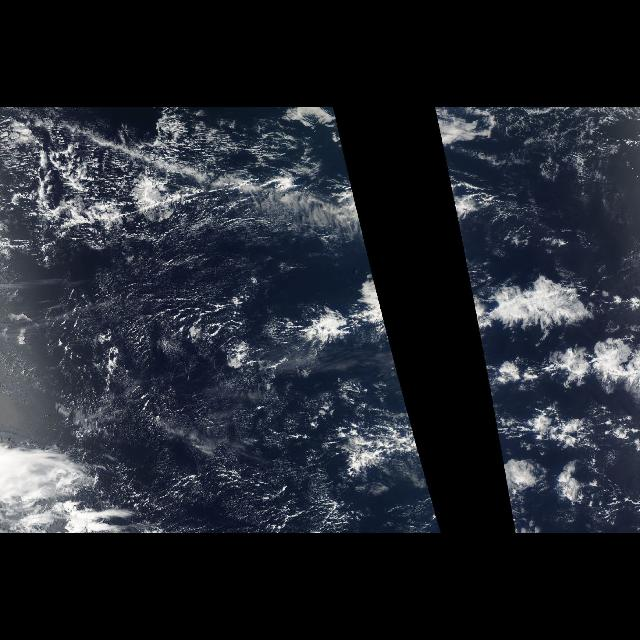Fish: (472, 274, 640, 428), (58, 170, 326, 228)
Flower: (492, 276, 634, 516)
Sugar: (16, 125, 332, 533)
